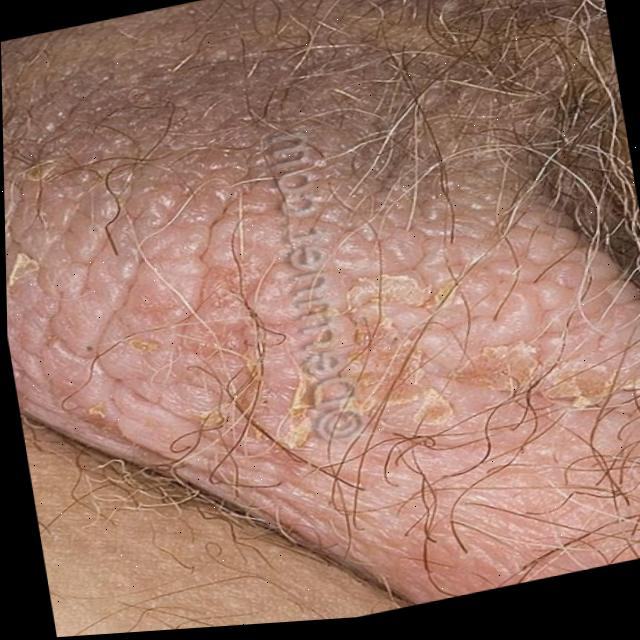Eczema: (65, 192, 634, 530)
